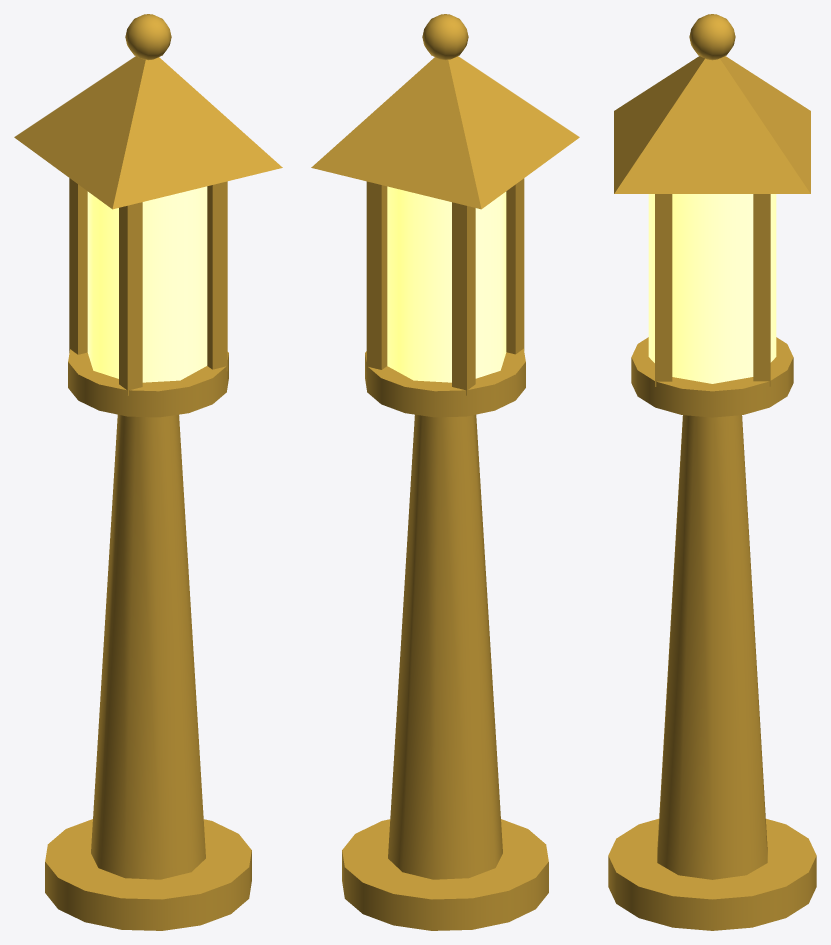
The model's file is lantern_floor.glb.
The picture shows the model from 3 angles, left to right: view 1: azimuth 30°, elevation 25°; view 2: azimuth 150°, elevation 25°; view 3: azimuth 270°, elevation 25°; orthographic projection.
Parts seen in each view (by area): view 1: root; view 2: root; view 3: root.
Part boxes in pixels (bbox=[...]): root: bbox=[14, 14, 282, 930]; root: bbox=[311, 14, 579, 930]; root: bbox=[608, 14, 816, 930].
Size of the model in its own units: 0.36 by 1.66 by 0.36.
